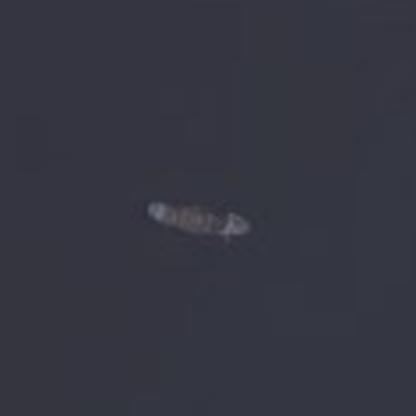ship: (138, 196, 257, 244)
